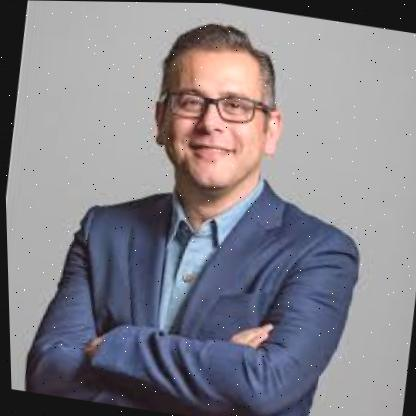person: (136, 11, 299, 200)
